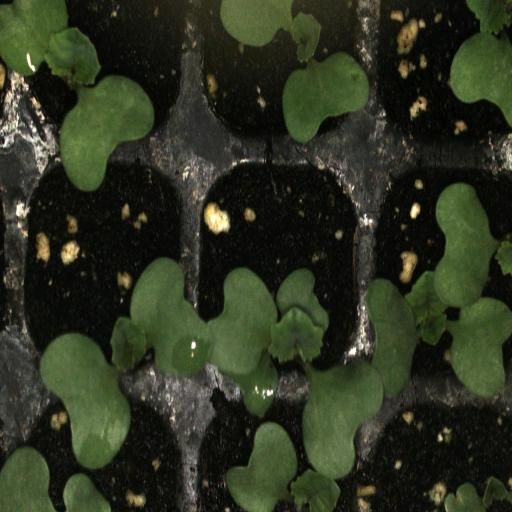seedling: (12, 149, 188, 397), (12, 0, 189, 154), (191, 0, 368, 146)
twoseedling: (187, 150, 367, 398), (368, 150, 512, 393)
